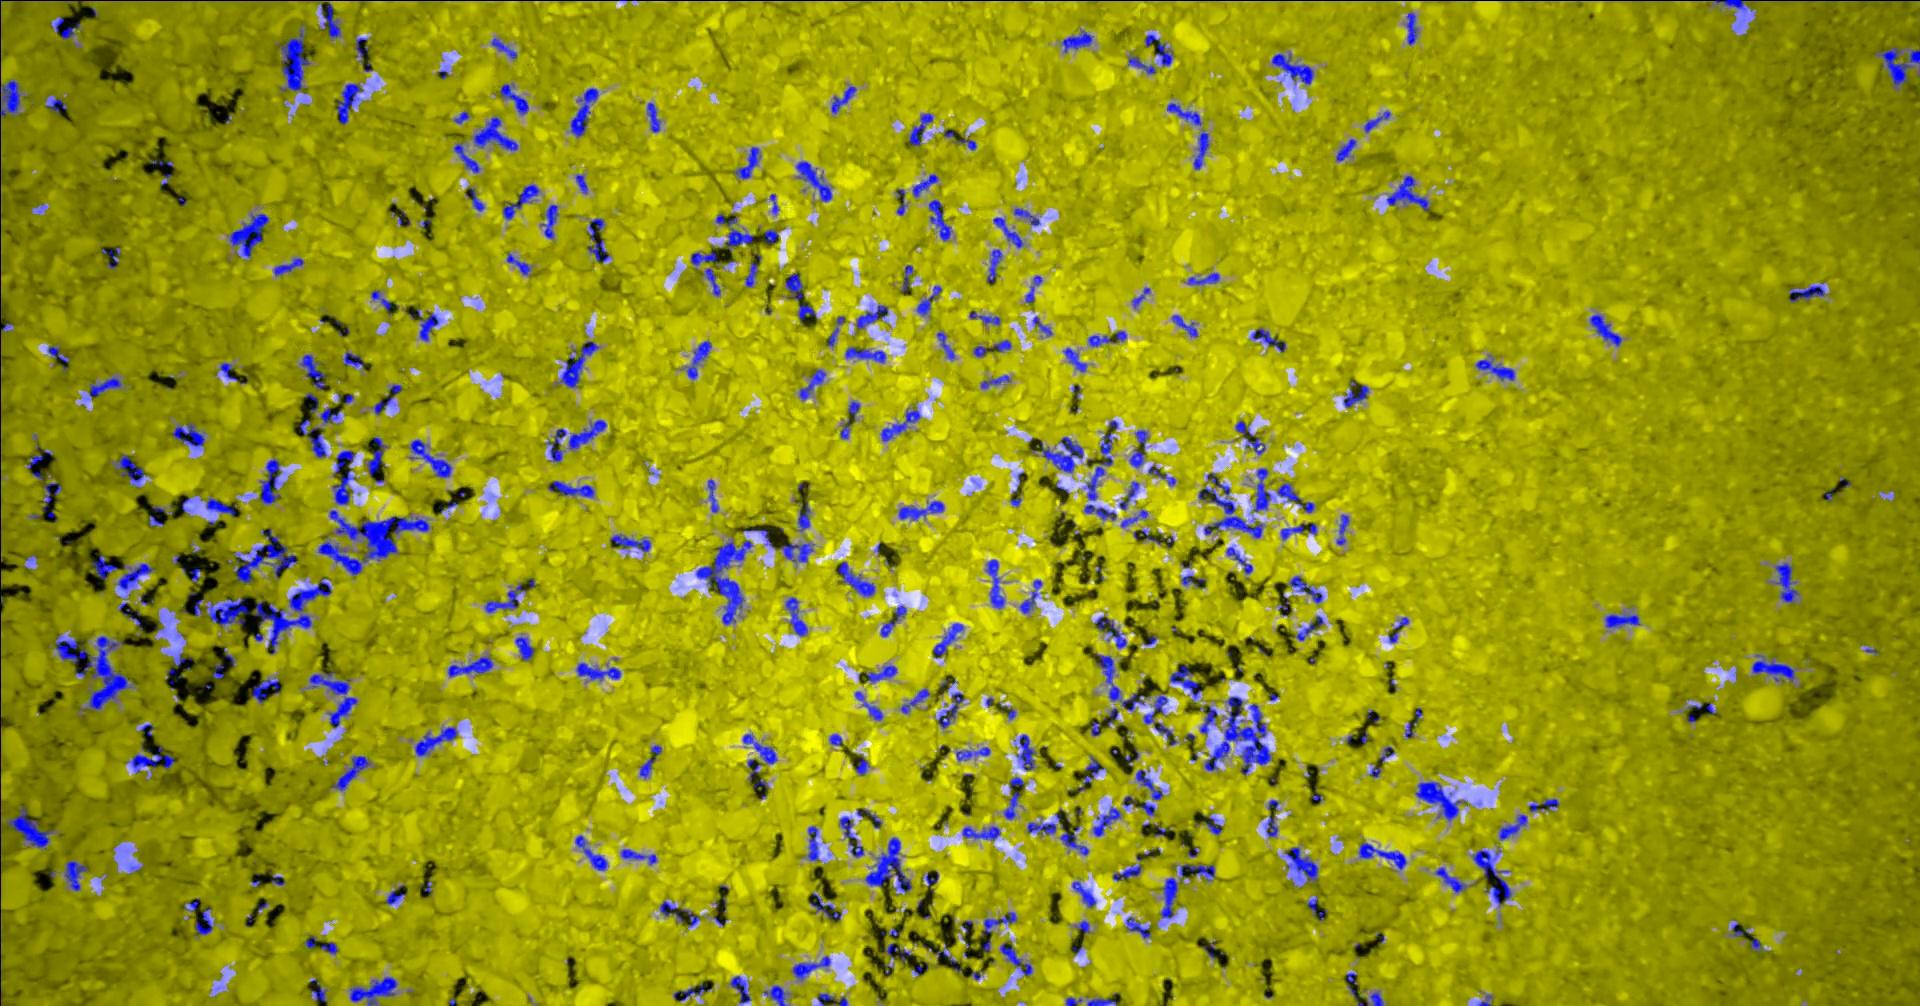ant: (1197, 486, 1262, 537), (1095, 653, 1149, 710), (309, 671, 357, 727), (1086, 420, 1117, 500), (863, 837, 910, 890), (742, 528, 813, 561), (1472, 850, 1511, 904), (8, 804, 53, 848), (556, 340, 598, 387), (1415, 781, 1464, 821), (279, 29, 309, 90), (1035, 436, 1082, 473), (229, 213, 268, 257), (1878, 47, 1919, 88), (410, 439, 451, 478), (1385, 175, 1429, 211), (472, 116, 517, 150), (795, 161, 830, 201), (330, 754, 370, 790), (570, 86, 598, 136), (349, 976, 396, 1005), (1271, 53, 1313, 84), (502, 184, 538, 218), (837, 561, 874, 596), (1143, 695, 1172, 738), (414, 727, 457, 756), (1357, 842, 1404, 869), (331, 450, 354, 504), (130, 746, 174, 774), (1170, 664, 1201, 702), (880, 409, 919, 439), (484, 583, 524, 612), (206, 597, 248, 625), (1751, 654, 1794, 681), (574, 835, 606, 870), (568, 419, 606, 448), (1276, 483, 1314, 512), (298, 418, 326, 457), (337, 83, 362, 124), (1589, 314, 1622, 345), (1285, 847, 1317, 880), (999, 942, 1031, 976), (932, 622, 963, 657), (742, 733, 776, 763), (839, 815, 863, 857), (659, 901, 698, 926), (686, 340, 711, 379), (1095, 616, 1126, 647), (1236, 420, 1265, 453), (117, 563, 152, 589), (985, 559, 1004, 608), (499, 83, 528, 114), (259, 459, 279, 503), (447, 655, 491, 676), (1078, 756, 1103, 791), (993, 217, 1023, 246), (809, 892, 841, 920), (1289, 575, 1322, 602), (928, 199, 950, 240), (1775, 561, 1797, 602), (898, 500, 943, 520), (785, 597, 808, 635), (937, 692, 963, 727), (792, 956, 830, 979), (375, 384, 403, 414), (733, 146, 759, 178), (118, 453, 143, 486), (300, 354, 324, 389), (982, 911, 1016, 935), (855, 691, 883, 720), (1092, 807, 1120, 836), (1144, 34, 1171, 65), (1166, 102, 1201, 124), (1135, 768, 1162, 799), (880, 605, 905, 636), (1251, 328, 1285, 351), (1018, 579, 1041, 614), (799, 370, 825, 399), (1476, 359, 1514, 380), (1293, 615, 1323, 640), (577, 662, 620, 680), (908, 113, 932, 145), (171, 423, 204, 446), (547, 480, 593, 497), (1345, 972, 1368, 1005), (367, 436, 386, 475), (42, 481, 61, 521), (0, 80, 20, 117), (936, 942, 963, 970), (453, 142, 479, 171), (916, 285, 941, 314), (1112, 855, 1142, 880), (63, 860, 88, 890), (1435, 868, 1465, 892), (856, 305, 888, 328), (610, 533, 650, 551), (1253, 467, 1270, 511), (1225, 546, 1252, 573), (1498, 814, 1526, 840), (900, 688, 930, 713), (320, 0, 339, 37), (1161, 876, 1177, 918), (1178, 862, 1214, 882), (673, 982, 709, 1001), (725, 227, 753, 251), (1060, 831, 1088, 855), (1062, 30, 1092, 52), (89, 377, 119, 399), (1129, 431, 1147, 467), (1789, 282, 1823, 301), (91, 554, 117, 579), (166, 653, 192, 678), (830, 86, 855, 113), (1343, 380, 1368, 406), (251, 680, 279, 702), (1016, 734, 1034, 770), (844, 347, 885, 362), (119, 602, 142, 629), (1363, 111, 1390, 132), (1087, 330, 1126, 345), (730, 976, 750, 1005), (547, 428, 565, 461), (273, 257, 303, 276), (1072, 882, 1095, 907), (1171, 315, 1197, 337), (1192, 132, 1208, 169), (620, 848, 657, 864), (825, 316, 844, 345), (55, 17, 79, 39), (1063, 347, 1086, 371), (912, 174, 937, 196), (541, 205, 557, 238), (1148, 465, 1175, 485), (419, 312, 438, 340), (1119, 481, 1138, 509), (963, 826, 1001, 840), (206, 498, 237, 514), (865, 666, 897, 682), (587, 239, 610, 262), (491, 37, 516, 58), (505, 253, 530, 274), (47, 345, 69, 370), (1125, 916, 1149, 937), (1199, 705, 1217, 734), (1404, 708, 1422, 737), (1023, 276, 1043, 302), (884, 942, 910, 962), (985, 249, 1001, 282), (936, 332, 954, 359), (1604, 614, 1639, 627), (194, 907, 212, 935), (1206, 473, 1229, 494), (371, 290, 391, 314), (1388, 617, 1408, 641), (1084, 504, 1116, 520), (856, 808, 881, 827), (785, 273, 803, 300), (1120, 509, 1147, 527), (1335, 138, 1355, 161), (763, 984, 786, 1005), (1128, 56, 1156, 72), (465, 187, 484, 211), (968, 310, 999, 324), (1714, 0, 1752, 11), (955, 747, 989, 760), (516, 636, 533, 661), (1003, 791, 1018, 819), (1013, 208, 1039, 225), (1307, 898, 1326, 920), (705, 268, 720, 295), (310, 979, 328, 1002), (1187, 272, 1219, 285), (646, 102, 659, 132), (1528, 798, 1558, 810), (44, 98, 66, 116), (102, 246, 119, 268), (1406, 11, 1417, 44), (690, 251, 716, 265), (980, 375, 1010, 387), (1336, 514, 1349, 544), (1032, 316, 1051, 335), (1131, 287, 1149, 307), (588, 218, 604, 240), (343, 352, 364, 368), (1280, 523, 1303, 539), (808, 826, 818, 860), (817, 993, 847, 1005), (356, 37, 368, 64), (218, 362, 237, 380), (1203, 817, 1222, 835), (797, 500, 809, 530), (707, 479, 717, 511), (1027, 822, 1055, 833), (797, 304, 815, 321), (639, 757, 654, 777), (1181, 575, 1205, 588), (900, 264, 912, 291), (745, 260, 757, 286), (320, 406, 339, 422), (182, 567, 201, 582), (747, 760, 759, 782), (385, 890, 405, 904), (1265, 814, 1277, 836), (303, 392, 317, 412), (1103, 708, 1117, 725), (855, 757, 869, 775), (715, 213, 737, 225), (25, 453, 42, 467), (183, 897, 199, 911), (895, 188, 904, 213), (575, 174, 587, 193), (847, 400, 858, 419), (763, 229, 778, 243), (1139, 801, 1154, 815), (992, 339, 1010, 351), (1010, 776, 1023, 790), (1732, 923, 1747, 936), (320, 942, 337, 954), (1087, 998, 1116, 1005), (973, 345, 990, 356), (1370, 991, 1383, 1005), (212, 663, 223, 678), (841, 419, 850, 438), (149, 514, 163, 526), (1090, 721, 1101, 735), (829, 734, 841, 746), (1065, 997, 1081, 1005)
